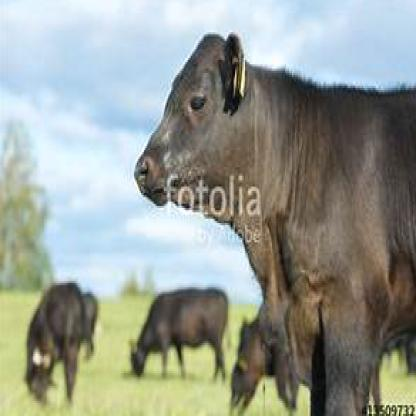cow: (134, 30, 414, 414), (127, 283, 231, 384)
